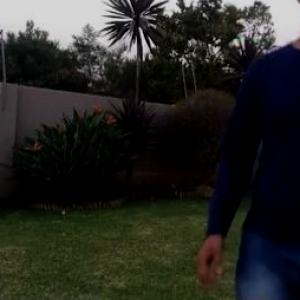follow: (225, 0, 298, 299)
